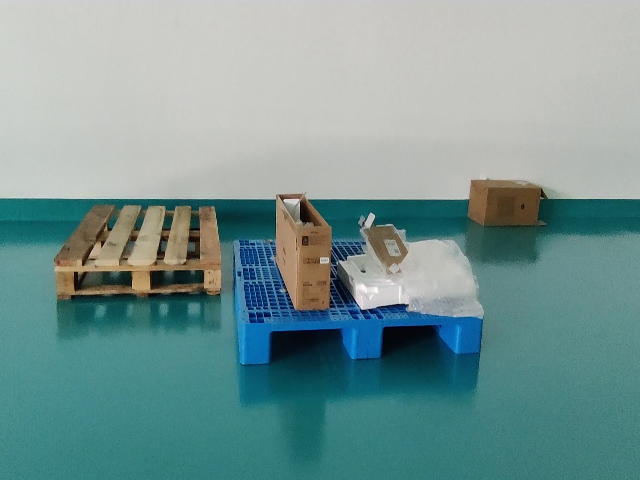block: (243, 321, 275, 367), (349, 319, 382, 360), (457, 314, 484, 356)
front: (243, 312, 492, 367)
hole pallet: (271, 329, 354, 362), (383, 326, 458, 356)
